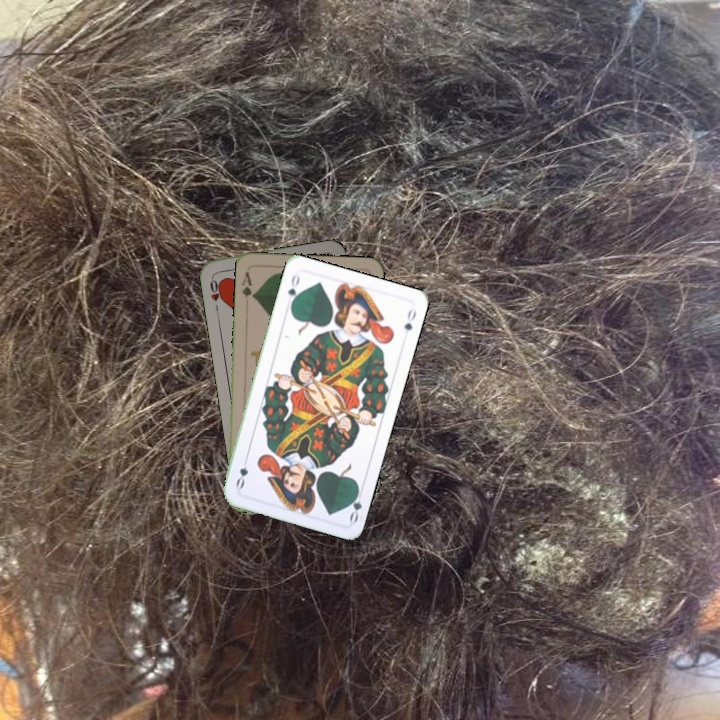GA: (238, 268, 257, 301)
GO: (344, 484, 366, 525), (284, 270, 302, 310)
HO: (206, 273, 226, 313)
